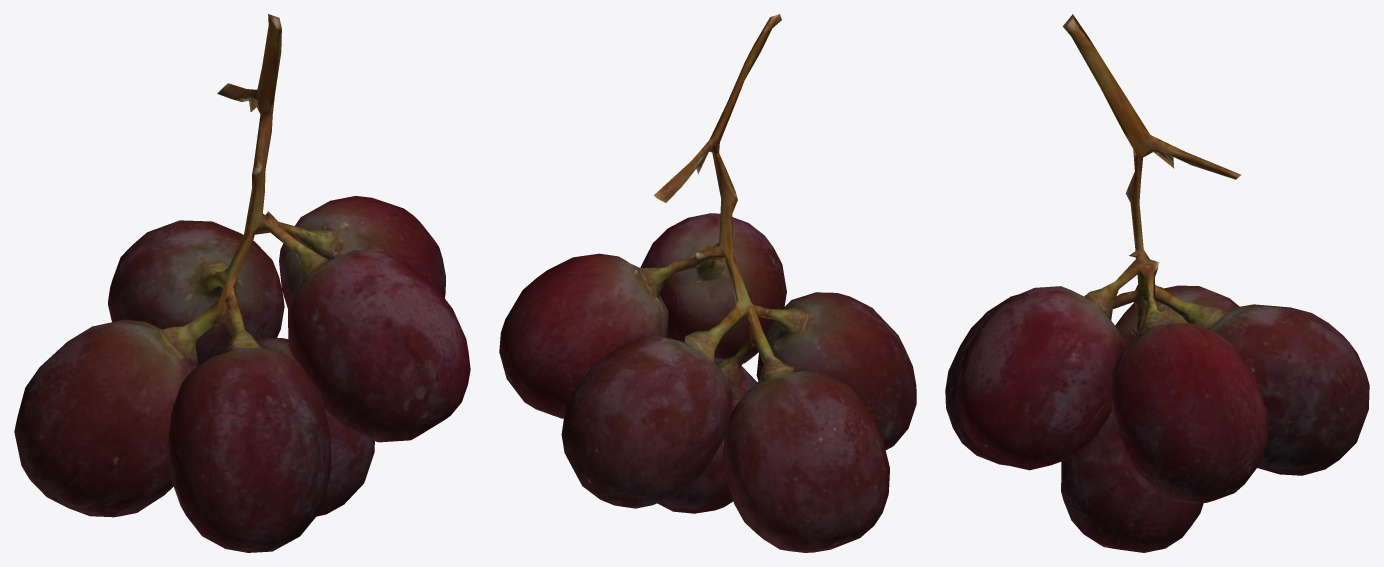
File: grapes_a.glb
The picture shows the model from 3 angles, left to right: view 1: azimuth 30°, elevation 25°; view 2: azimuth 150°, elevation 25°; view 3: azimuth 270°, elevation 25°; orthographic projection. The views are drawn at different scales.
Parts seen in each view (by area): view 1: wjbgdiz_LOD0_TIER2_000; view 2: wjbgdiz_LOD0_TIER2_000; view 3: wjbgdiz_LOD0_TIER2_000.
Part boxes in pixels (left/top/right/bottom): wjbgdiz_LOD0_TIER2_000: left=14, top=14, right=470, bottom=552; wjbgdiz_LOD0_TIER2_000: left=499, top=14, right=916, bottom=552; wjbgdiz_LOD0_TIER2_000: left=945, top=14, right=1369, bottom=552.
Bounding box in the file's own units: 0.0561 × 0.0703 × 0.0537.
Materials: 1 (1 with a texture image).
